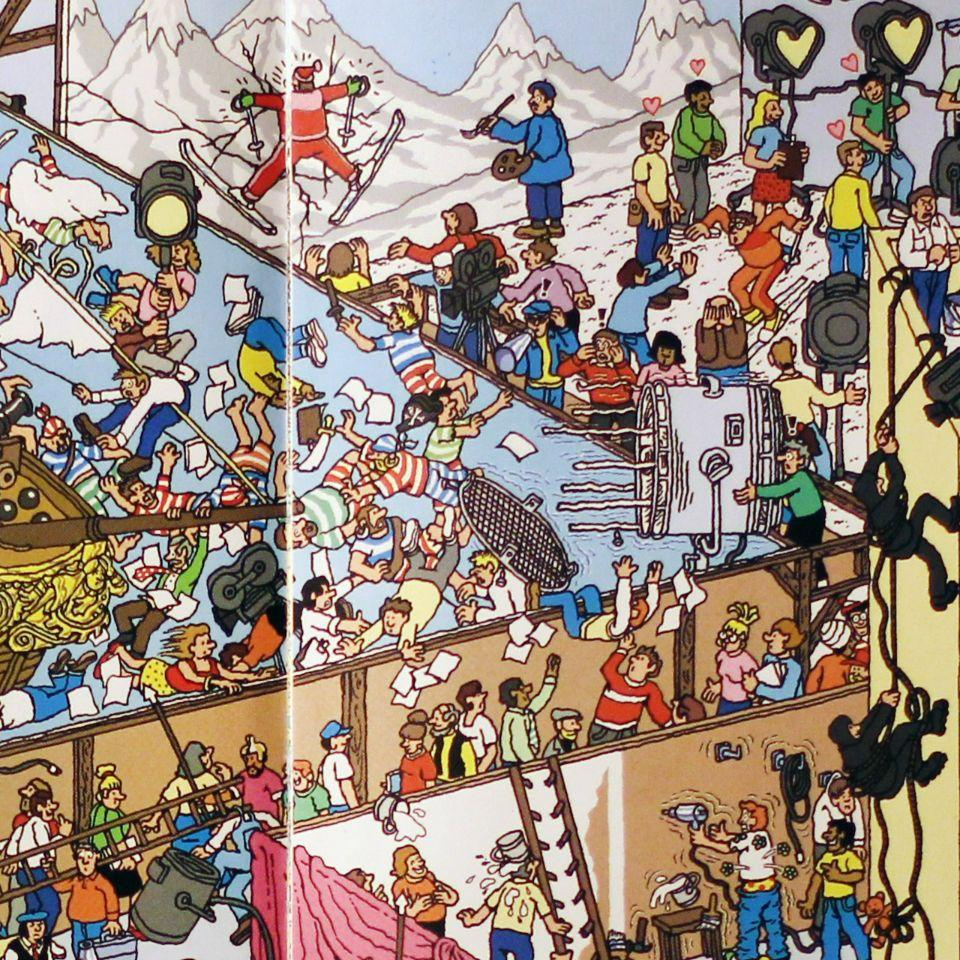waldo: (838, 597, 873, 640)
